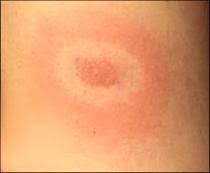Tick: (75, 57, 119, 87)
